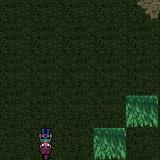Slow: (93, 128, 126, 160), (126, 95, 158, 127)
Victim: (32, 125, 59, 160)
